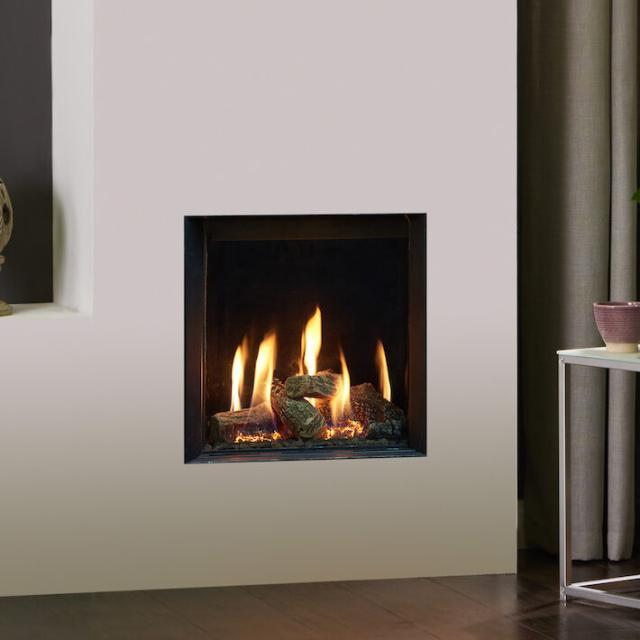Fire: (214, 296, 411, 436)
